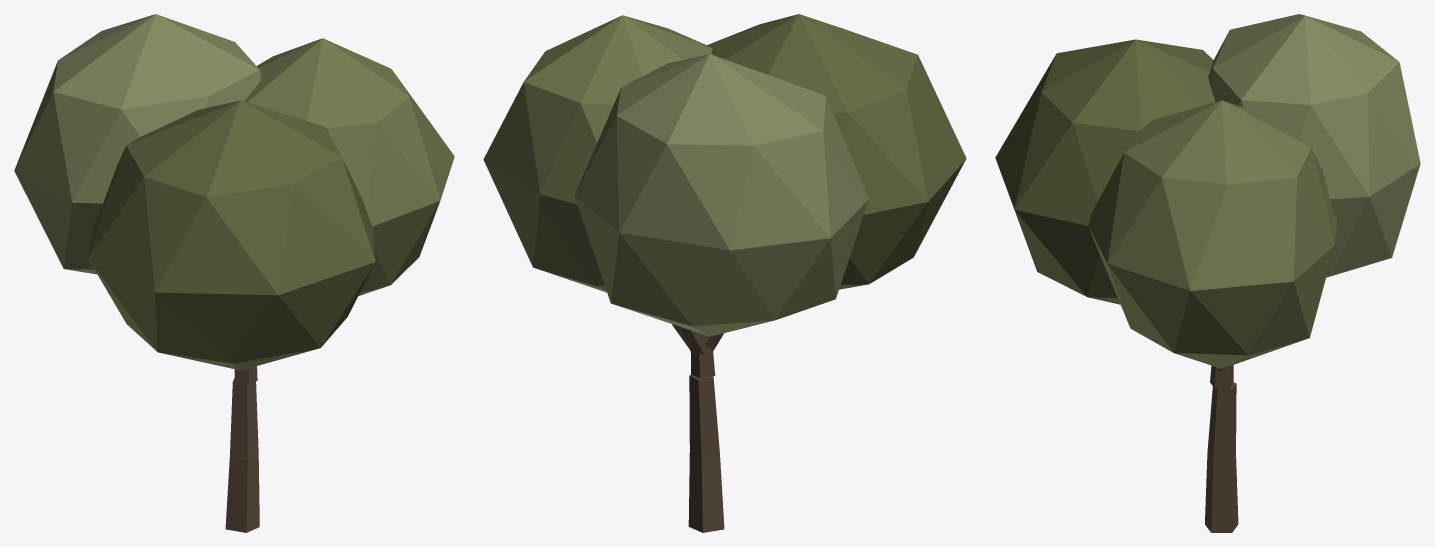
3 renders of one model, left to right at view 1: azimuth 30°, elevation 25°; view 2: azimuth 150°, elevation 25°; view 3: azimuth 270°, elevation 25°, orthographic. The views are drawn at different scales.
Parts seen in each view (by area): view 1: compact-previous; view 2: compact-previous; view 3: compact-previous.
Part boxes in pixels (x1,y1,x2,y2): compact-previous: (14, 14, 454, 532); compact-previous: (483, 14, 966, 532); compact-previous: (995, 14, 1420, 532).
Bounding box in the file's own units: 16.35 × 20.26 × 15.95.
